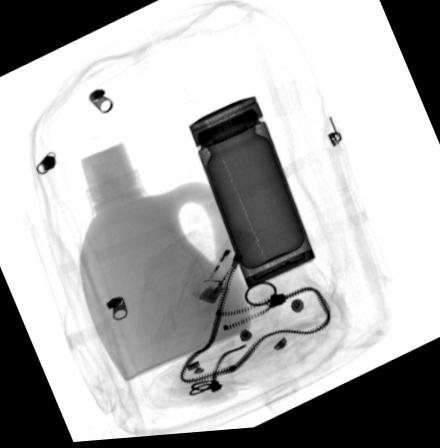Lighter: (190, 234, 254, 307)
